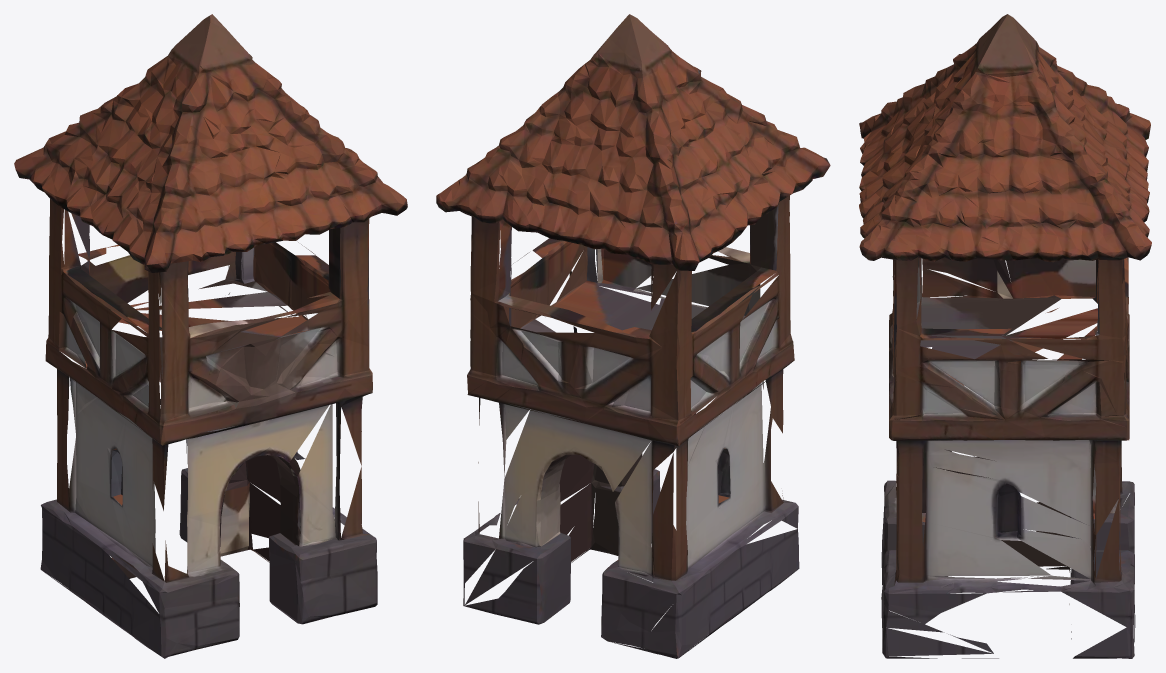
Rendered from checkpoint.glb.
3 views of the same model, side by side, from view 1: azimuth 30°, elevation 25°; view 2: azimuth 150°, elevation 25°; view 3: azimuth 270°, elevation 25° (orthographic). The views are drawn at different scales.
Visible parts, largest first — view 1: geometry_0; view 2: geometry_0; view 3: geometry_0.
Boxes of the visible parts, left/top/right/bottom form: geometry_0: left=14, top=14, right=407, bottom=658; geometry_0: left=436, top=14, right=830, bottom=658; geometry_0: left=859, top=14, right=1151, bottom=658.
Bounding box in the file's own units: 1.43 × 3 × 1.34.
1 material, 1 textured.
